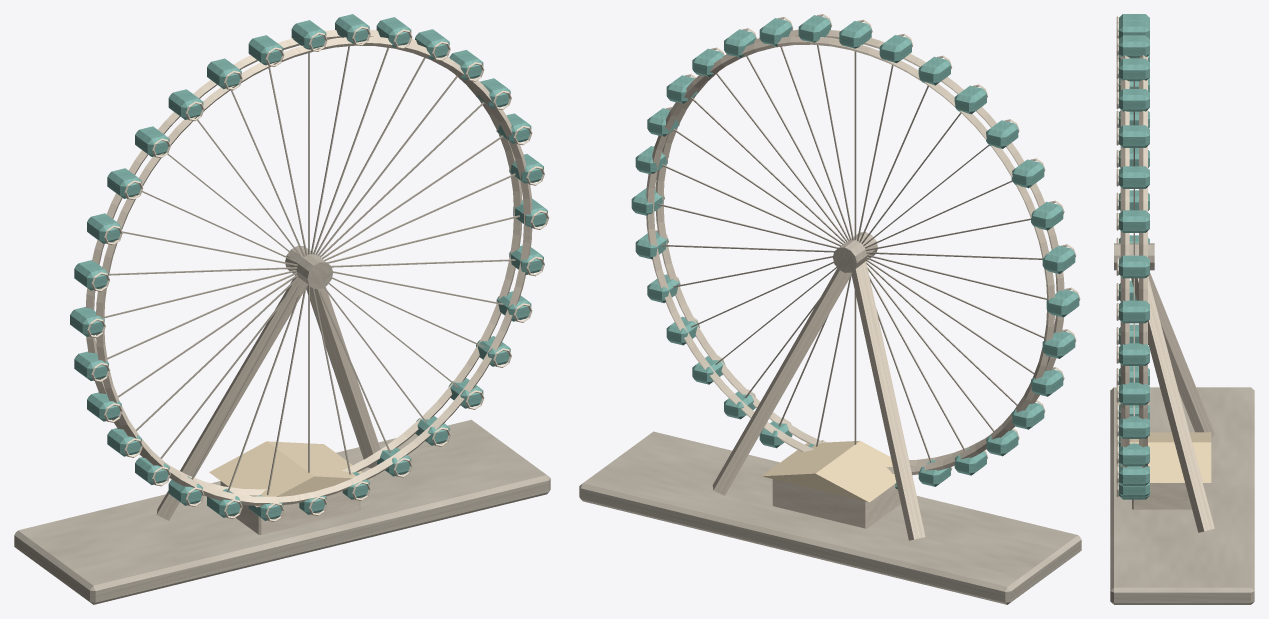
File: london-eye.glb
The picture shows the model from 3 angles, left to right: view 1: azimuth 30°, elevation 25°; view 2: azimuth 150°, elevation 25°; view 3: azimuth 270°, elevation 25°; orthographic projection. The views are drawn at different scales.
Visible parts, largest first — view 1: london-eye; view 2: london-eye; view 3: london-eye.
Part boxes in pixels (x1,y1,x2,y2): london-eye: (14,14,550,604); london-eye: (579,14,1081,604); london-eye: (1110,14,1254,604).
Bounding box in the file's own units: 10.1 × 10.69 × 3.
1 material, 1 textured.
